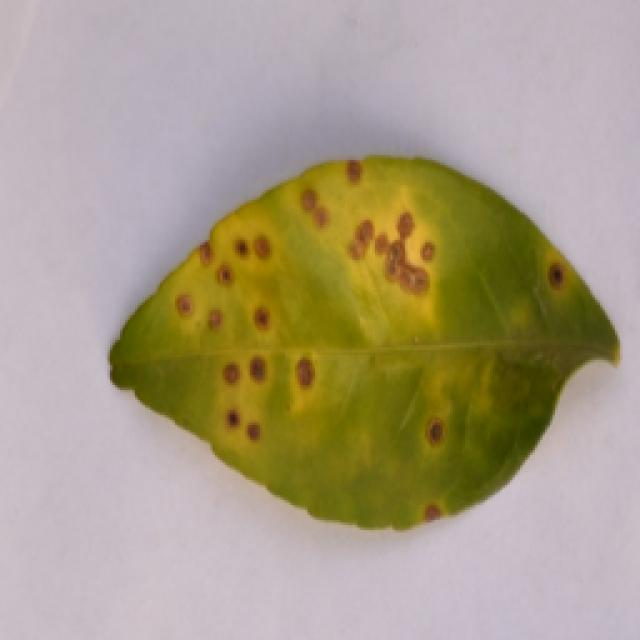canker: (135, 133, 596, 562)
